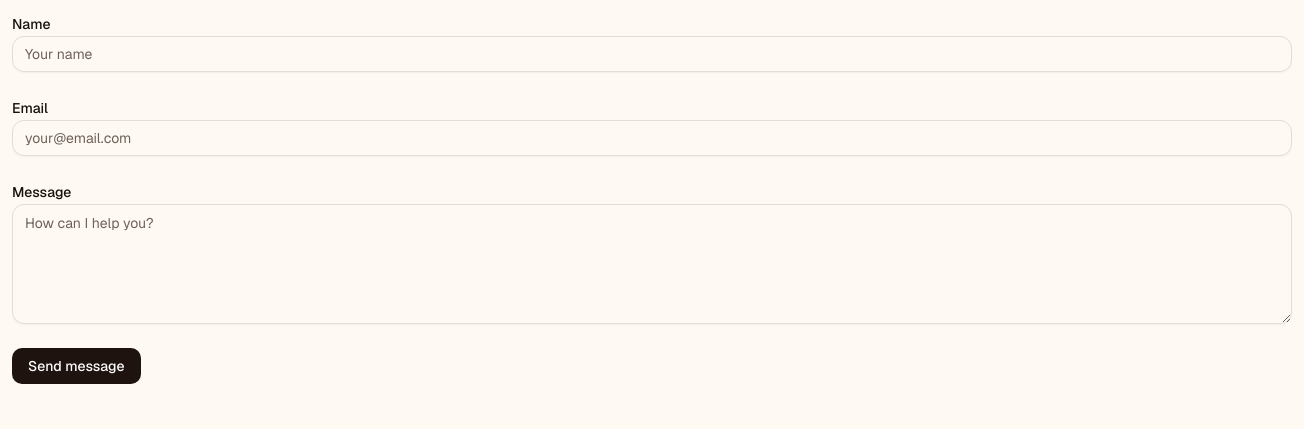
Test case: ContactForm › email format validation (Requirement 8.2) › shows a feedback message when the email format is invalid
The image size is (1304, 429).
In the field labelled "Name": (652, 54) x1=12 y1=36 x2=1292 y2=72, type "Jane"
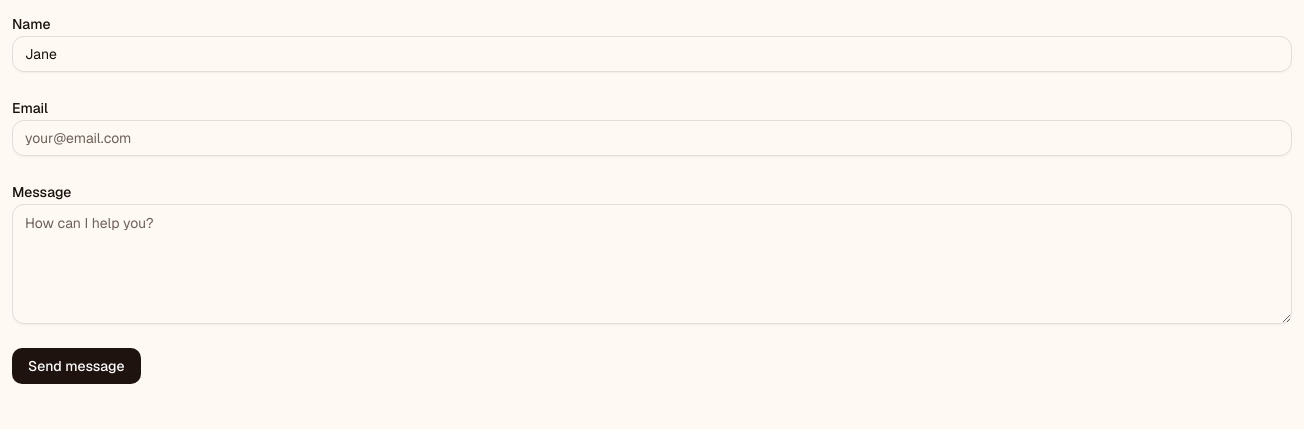
In the field labelled "Email": (652, 138) x1=12 y1=120 x2=1292 y2=156, type "not-an-email"
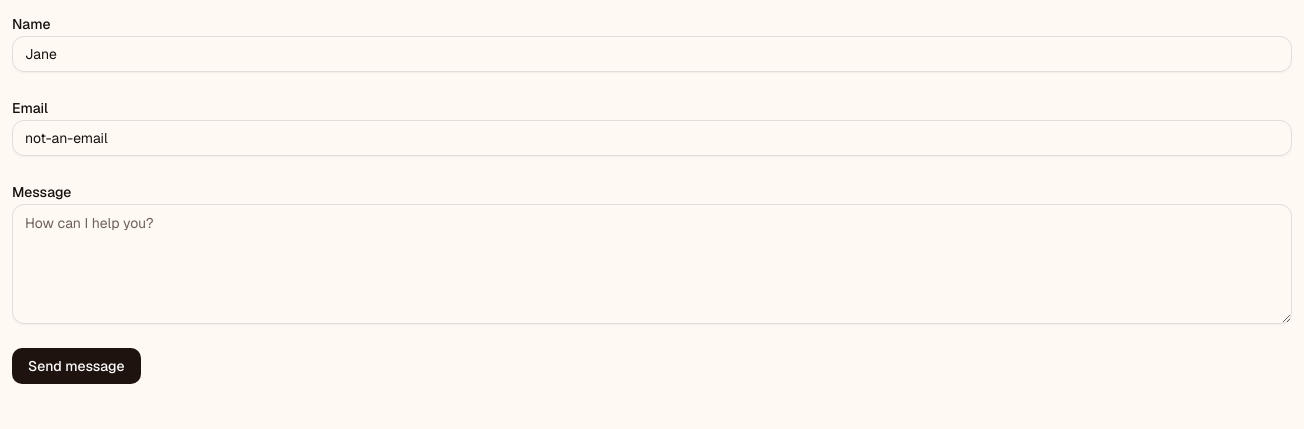
In the text box labelled "Message": (652, 264) x1=12 y1=204 x2=1292 y2=324, type "This is a valid message body with enough length."
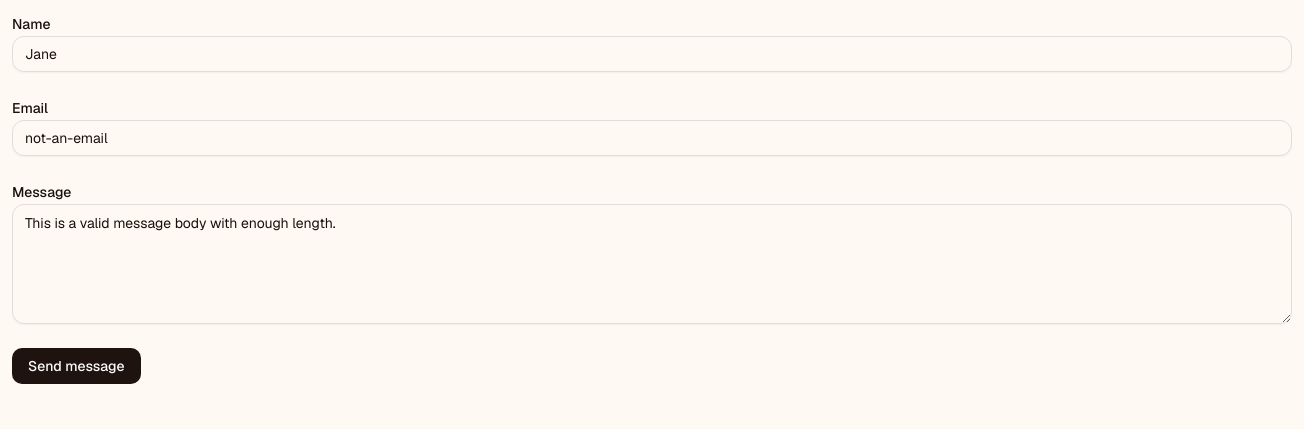
Click the button "Send message": (76, 366) x1=12 y1=348 x2=140 y2=384
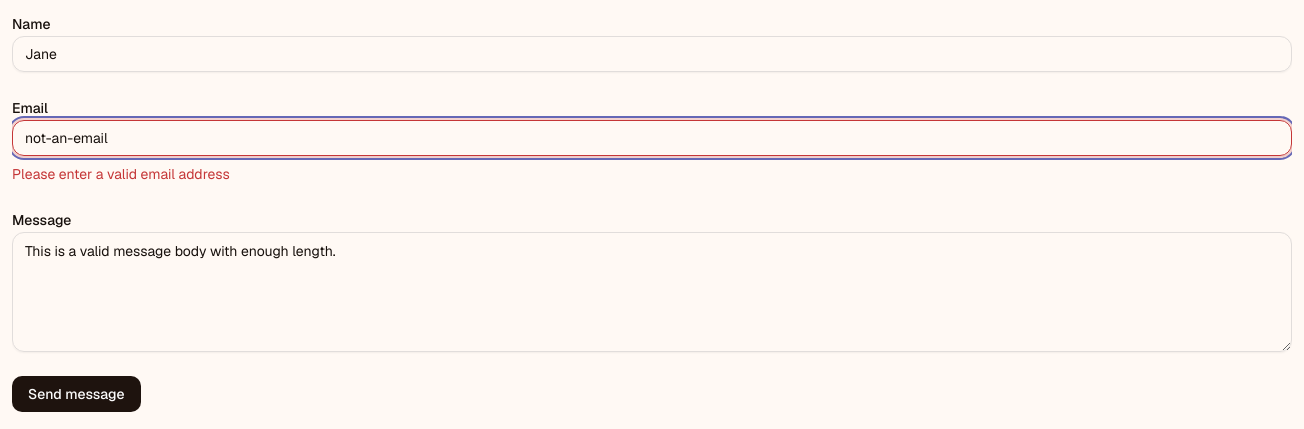
Check: the text "Please enter a valid email address" is shown, box x1=12 y1=165 x2=230 y2=183
